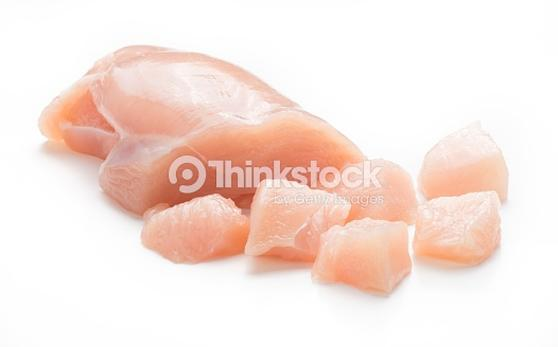chicken_fillet: (75, 43, 350, 212)
